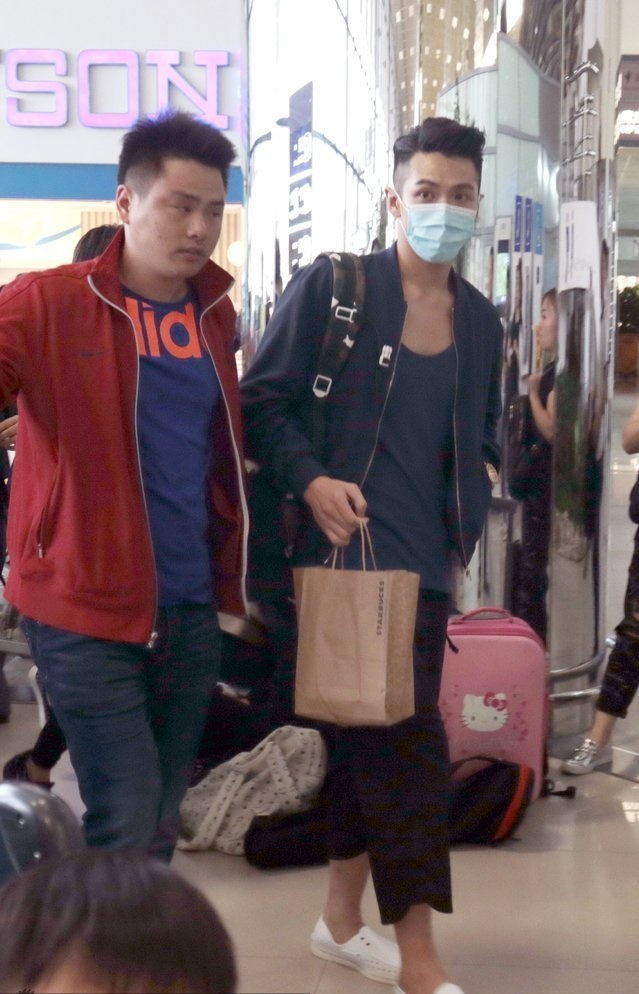face: (140, 156, 223, 275), (534, 293, 559, 351)
face_mask: (401, 150, 474, 258)
